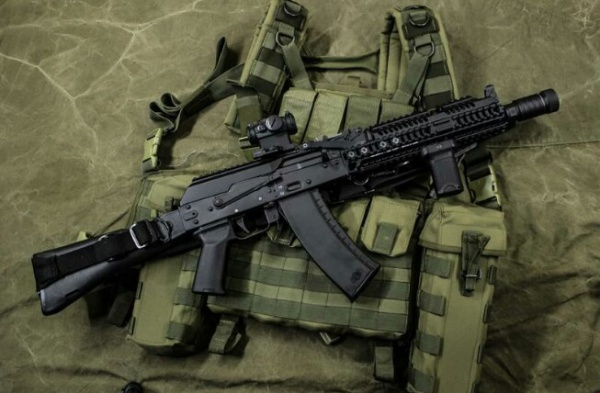ak47: (31, 86, 559, 316)
